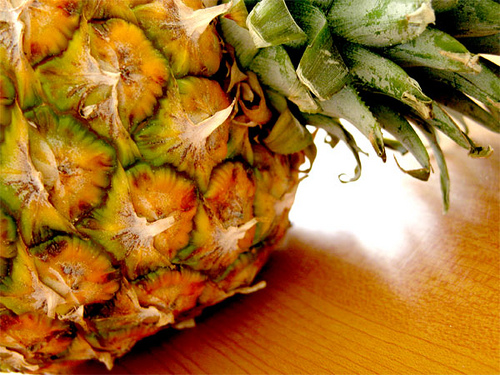pineapple: (2, 0, 498, 374)
